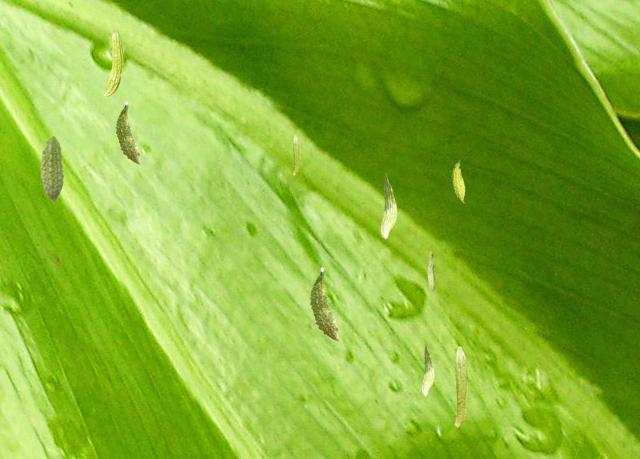ampalaya: (309, 267, 339, 341), (115, 101, 141, 165), (40, 135, 64, 202), (103, 26, 124, 96), (380, 173, 397, 240), (454, 345, 467, 427), (420, 342, 434, 397), (452, 159, 465, 203), (427, 251, 435, 291), (292, 134, 299, 175)
